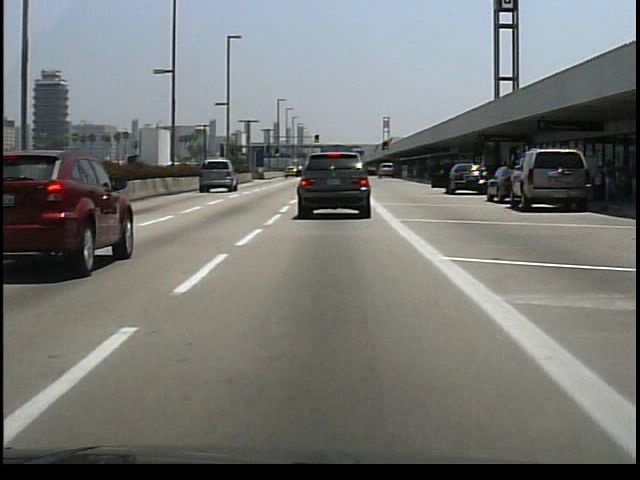person: (599, 154, 620, 205)
